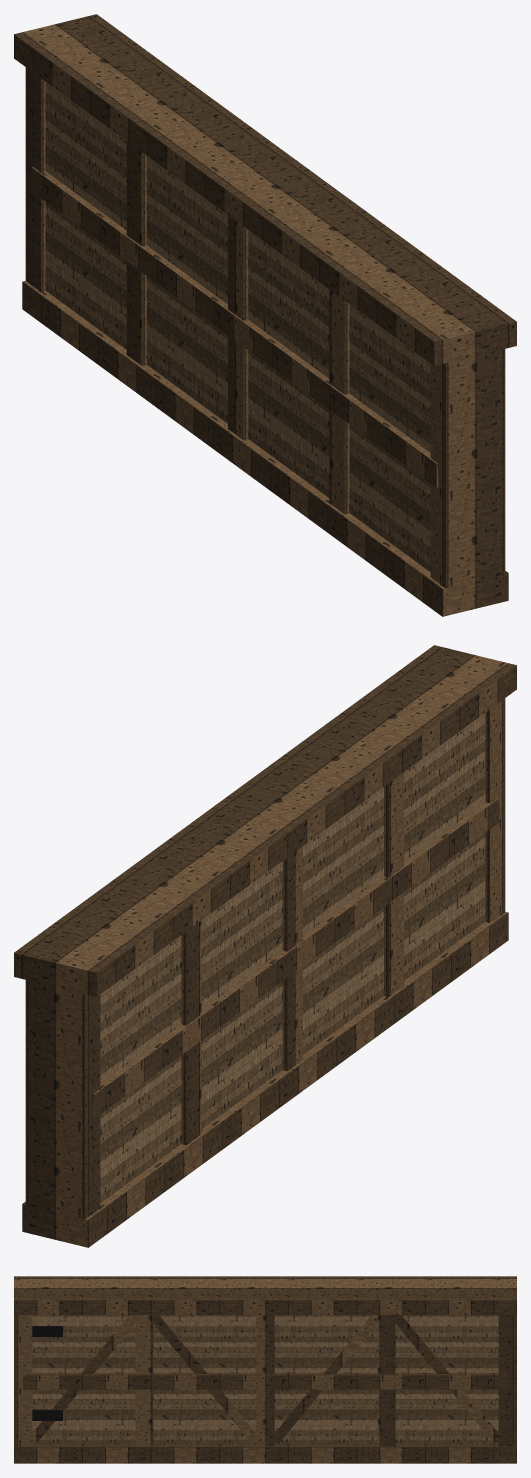
File: int-partition-board-a.glb
3 renders of one model, top to bottom at view 1: azimuth 30°, elevation 25°; view 2: azimuth 150°, elevation 25°; view 3: azimuth 270°, elevation 25°, orthographic. The views are drawn at different scales.
Parts seen in each view (by area): view 1: int-partition-board-a; view 2: int-partition-board-a; view 3: int-partition-board-a.
Part boxes in pixels (x1=…): int-partition-board-a: x1=14, y1=14, x2=516, y2=616; int-partition-board-a: x1=14, y1=645, x2=516, y2=1247; int-partition-board-a: x1=14, y1=1276, x2=516, y2=1463.
Size of the model in its own units: 0.5 by 1.6 by 4.4.
3 materials, 3 textured.
